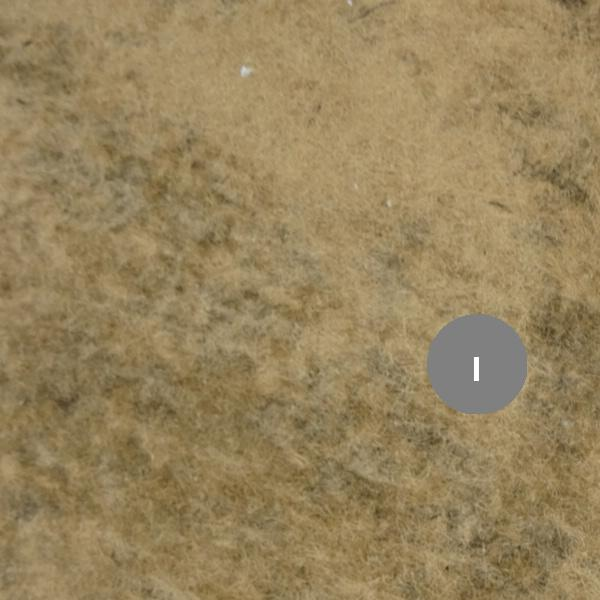Circle: (427, 314, 527, 414)
